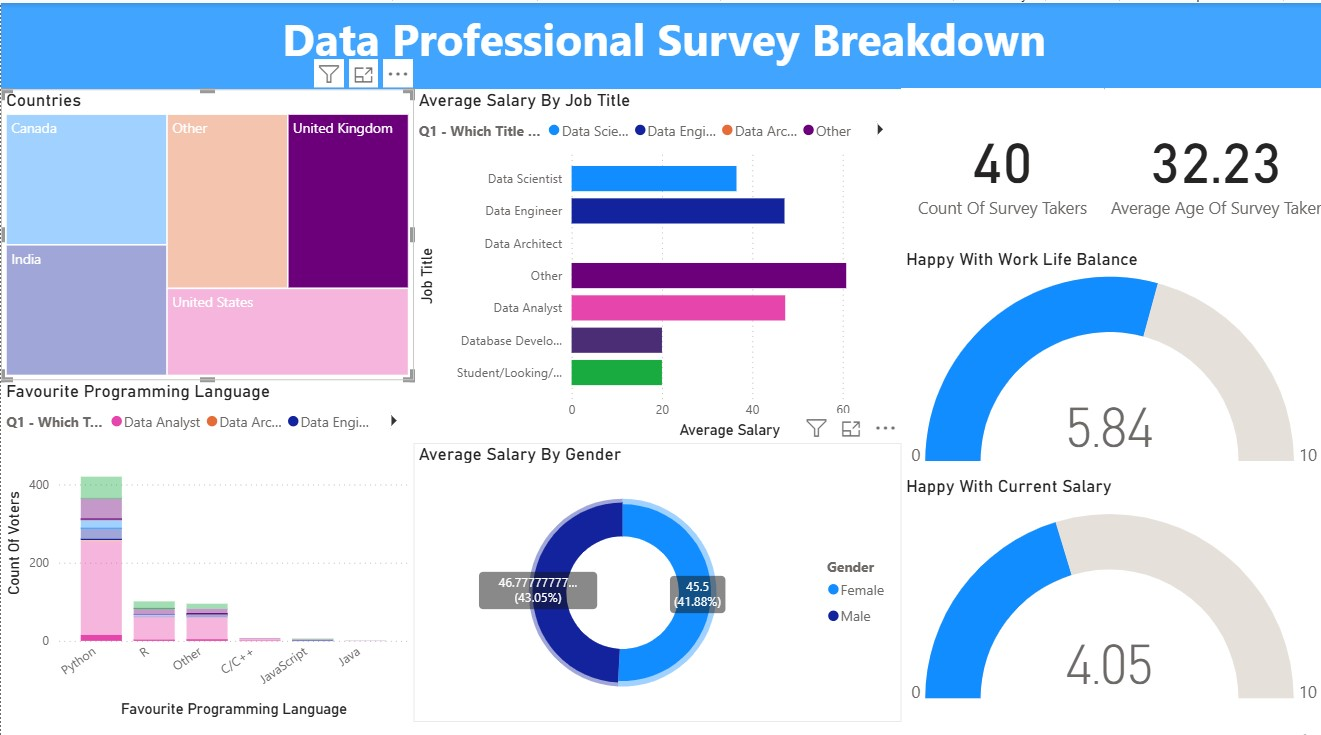

What the dashboard file says about the page in this screenshot:
{"tool":"powerbi","page":{"name":"Page 1","canvas":[1280,720],"ordinal":0},"visuals":[{"type":"textbox","box":[0,0,1280,82.9],"z":0},{"type":"card","fields":{"Values":["Count(Data Professional Survey.Unique ID)"]},"box":[868.6,82.3,196.2,153.7],"z":1000},{"type":"card","fields":{"Values":["Avg(Data Professional Survey.Q10 - Current Age)"]},"box":[1064.8,82.3,215.4,153.7],"z":2000},{"type":"barChart","title":"Average Salary By Job Title","fields":{"Y":["Avg(Data Professional Survey.Average Salary)"],"Category":["Data Professional Survey.Q1 - Which Title Best Fits your Current Role?.1"],"Series":["Data Professional Survey.Q1 - Which Title Best Fits your Current Role?.1"]},"box":[398.6,82.9,470,341.4],"z":3000},{"type":"columnChart","title":"Favourite Programming Language","fields":{"Category":["Data Professional Survey.Q5 - Favorite Programming Language.1"],"Y":["CountNonNull(Data Professional Survey.Unique ID)"],"Series":["Data Professional Survey.Q1 - Which Title Best Fits your Current Role?.1"]},"box":[0,364.3,398.6,330],"z":4000},{"type":"treemap","title":"Countries","fields":{"Group":["Data Professional Survey.Q11 - Which Country do you live in?.1"],"Values":["Count(Data Professional Survey.Q11 - Which Country do you live in?.1)"]},"box":[0,82.9,398.6,281.4],"z":5000},{"type":"gauge","title":"Happy With  Current Salary","fields":{"Y":["Avg(Data Professional Survey.Q6 - How Happy are you in your Current Position with the following? (Salary))"],"MinValue":["Min(Data Professional Survey.Q6 - How Happy are you in your Current Position with the following? (Salary))1"],"MaxValue":["Max(Data Professional Survey.Q6 - How Happy are you in your Current Position with the following? (Salary))2"]},"box":[868.6,455.7,411.4,238.6],"z":5001},{"type":"gauge","title":"Happy With Work Life Balance","fields":{"Y":["Avg(Data Professional Survey.Q6 - How Happy are you in your Current Position with the following? (Work/Life Balance))"],"MinValue":["Min(Data Professional Survey.Q6 - How Happy are you in your Current Position with the following? (Work/Life Balance))1"],"MaxValue":["Max(Data Professional Survey.Q6 - How Happy are you in your Current Position with the following? (Work/Life Balance))2"]},"box":[868.6,236,411.7,219.6],"z":5002},{"type":"donutChart","title":"Average Salary By Gender","fields":{"Category":["Data Professional Survey.Q9 - Male/Female?"],"Y":["Avg(Data Professional Survey.Average Salary)"]},"box":[398.6,424.3,470,270],"z":5003}]}

Visuals, with their boxes in screenshot pixels (x1, y1, x2, y2), scaled from the page's 1280x720 canvas onto the 1321x735 screenshot:
textbox: crop(0, 0, 1320, 85)
card - Count(Data Professional Survey.Unique ID): crop(896, 84, 1099, 241)
card - Avg(Data Professional Survey.Q10 - Current Age): crop(1099, 84, 1320, 241)
"Average Salary By Job Title" barChart: crop(411, 85, 896, 433)
"Favourite Programming Language" columnChart: crop(0, 372, 411, 709)
"Countries" treemap: crop(0, 85, 411, 372)
"Happy With  Current Salary" gauge: crop(896, 465, 1320, 709)
"Happy With Work Life Balance" gauge: crop(896, 241, 1320, 465)
"Average Salary By Gender" donutChart: crop(411, 433, 896, 709)
